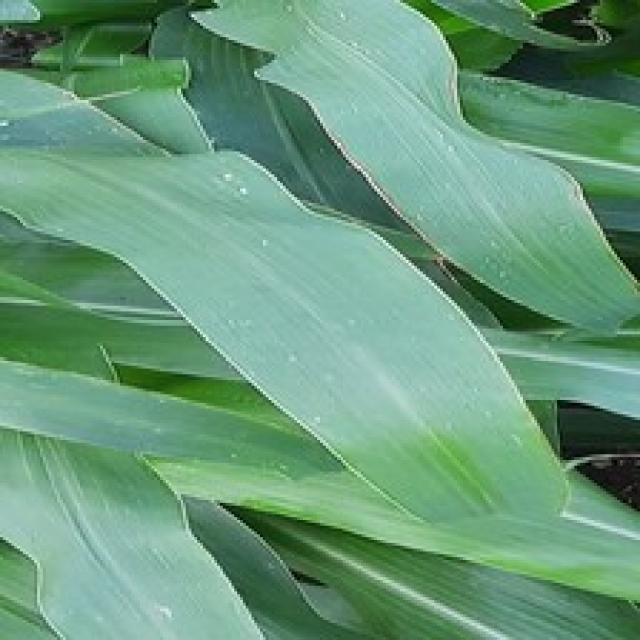Corn: (0, 0, 637, 637), (180, 0, 637, 340)
